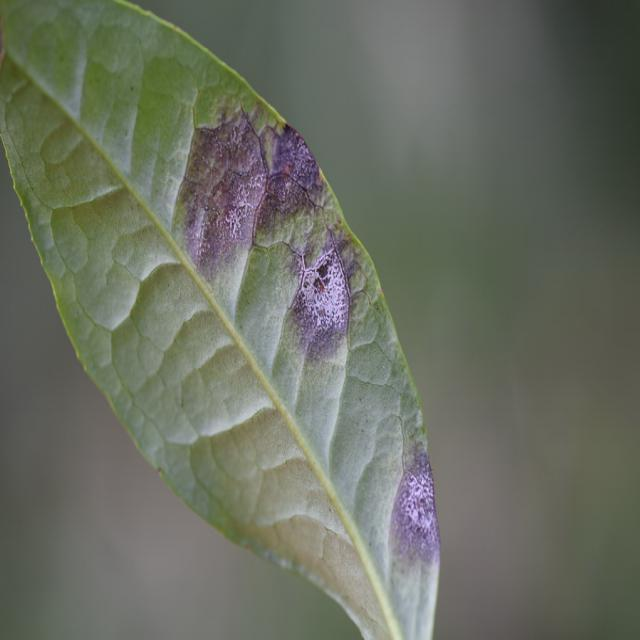Tea exobasidium blight: (172, 108, 395, 340), (394, 430, 452, 570)
